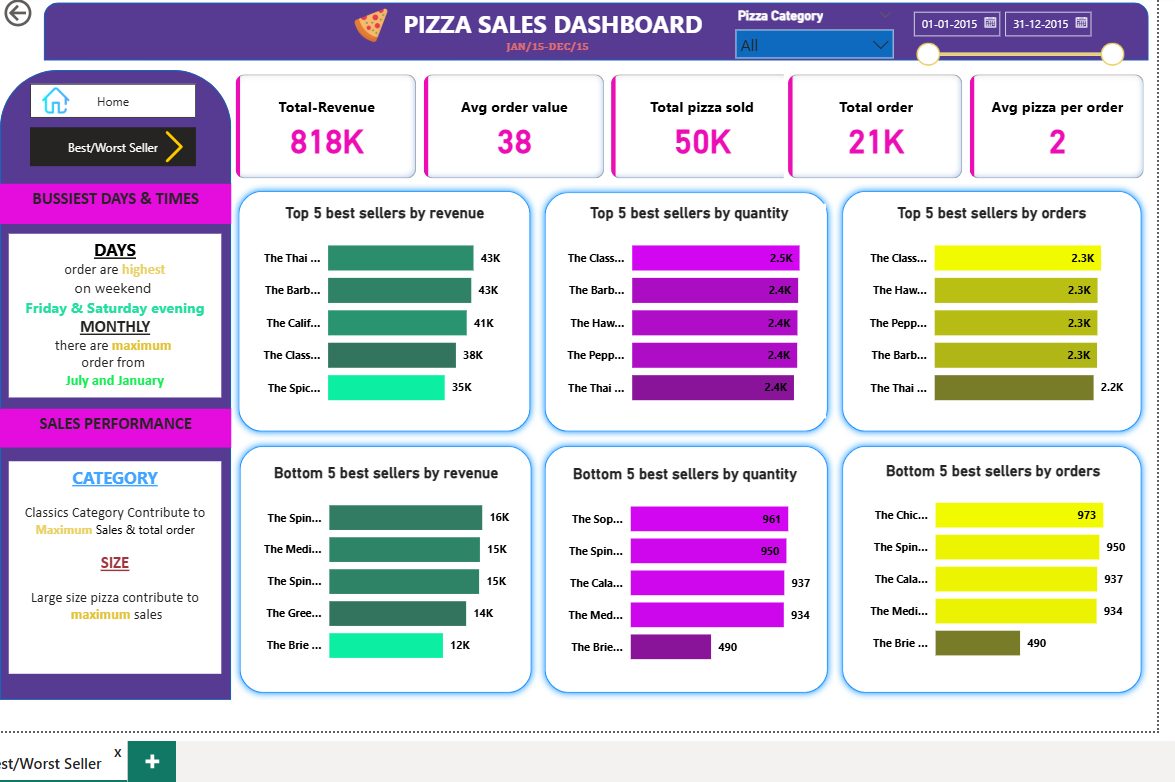

This screenshot's page, from the dashboard's own definition file:
{"tool":"powerbi","page":{"name":"Best/Worst Seller","canvas":[1290,820],"ordinal":1},"visuals":[{"type":"actionButton","box":[0,0,100,40],"z":0},{"type":"cardVisual","fields":{"Data":["pizza_sales.Total-Revenue","pizza_sales.Avg order value","pizza_sales.Total pizza sold"]},"box":[257.6,83.6,629.5,126.7],"z":1000},{"type":"cardVisual","fields":{"Data":["pizza_sales.Total order","pizza_sales.Avg pizza per order"]},"box":[873.2,83.6,406.7,126.7],"z":2000},{"type":"shape","box":[49.4,8.2,1230.9,64.5],"z":3000},{"type":"textbox","box":[407.5,8.2,415.8,48],"z":4000},{"type":"textbox","box":[555.7,41.2,108.4,31.6],"z":5000},{"type":"image","box":[382.8,9.6,60.4,48],"z":6000},{"type":"shape","box":[257.6,210.3,341.2,284.1],"z":7000},{"type":"shape","box":[0,83.6,257.6,701.9],"z":8000},{"type":"textbox","box":[0,210.3,257.6,44.6],"z":9000},{"type":"textbox","box":[9.7,266,236.8,182.4],"z":10000},{"type":"slicer","fields":{"Values":["pizza_sales.pizza_category"]},"box":[809.1,9.7,196.4,62.7],"z":11000},{"type":"slicer","fields":{"Values":["pizza_sales.order_date"]},"box":[1005.5,8.4,254.9,75.2],"z":12000},{"type":"shape","box":[598.8,211.7,331.5,282.7],"z":13000},{"type":"shape","box":[930.3,210.3,349.6,284.1],"z":14000},{"type":"shape","box":[259,494.4,341.2,291.1],"z":15000},{"type":"shape","box":[598.8,494.4,331.5,291.1],"z":16000},{"type":"shape","box":[930.3,494.4,349.6,291.1],"z":17000},{"type":"barChart","title":"Top 5 best sellers by revenue","fields":{"Category":["pizza_sales.pizza_name"],"Y":["pizza_sales.Total-Revenue"]},"box":[275.7,232.6,306.4,239.5],"z":18000},{"type":"barChart","title":"Bottom 5 best sellers by revenue","fields":{"Category":["pizza_sales.pizza_name"],"Y":["pizza_sales.Total-Revenue"]},"box":[277.1,522.3,306.4,236.8],"z":19000},{"type":"barChart","title":"Top 5 best sellers by quantity","fields":{"Category":["pizza_sales.pizza_name"],"Y":["pizza_sales.Total pizza sold"]},"box":[615.6,232.6,305,239.5],"z":20000},{"type":"barChart","title":"Bottom 5 best sellers by quantity","fields":{"Category":["pizza_sales.pizza_name"],"Y":["pizza_sales.Total pizza sold"]},"box":[617,523.6,292.5,236.8],"z":21000},{"type":"barChart","title":"Top 5 best sellers by orders","fields":{"Category":["pizza_sales.pizza_name"],"Y":["pizza_sales.Total order"]},"box":[952.6,232.6,305,239.5],"z":22000},{"type":"barChart","title":"Bottom 5 best sellers by orders","fields":{"Category":["pizza_sales.pizza_name"],"Y":["pizza_sales.Total pizza sold"]},"box":[952.6,519.5,307.8,236.8],"z":23000},{"type":"textbox","box":[0,461,257.6,43.2],"z":24000},{"type":"textbox","box":[9.7,519.5,236.8,236.8],"z":25000},{"type":"pageNavigator","box":[33.4,98.9,185.2,39],"z":25001},{"type":"pageNavigator","box":[33.4,147.6,185.2,43.2],"z":25002},{"type":"image","box":[39,97.5,46,40.4],"z":25003},{"type":"image","box":[171.3,146.2,46,46],"z":25004}]}

Visuals, with their boxes on the page's 1290x820 design canvas (x1, y1, x2, y2). These are canvas units, not pixel positions in the 1175x782 screenshot, which may show the page scaled, cropped or inside an application window:
actionButton: Rect(0, 0, 100, 40)
cardVisual - pizza_sales.Total-Revenue x pizza_sales.Avg order value: Rect(258, 84, 887, 210)
cardVisual - pizza_sales.Total order x pizza_sales.Avg pizza per order: Rect(873, 84, 1280, 210)
shape: Rect(49, 8, 1280, 73)
textbox: Rect(408, 8, 823, 56)
textbox: Rect(556, 41, 664, 73)
image: Rect(383, 10, 443, 58)
shape: Rect(258, 210, 599, 494)
shape: Rect(0, 84, 258, 786)
textbox: Rect(0, 210, 258, 255)
textbox: Rect(10, 266, 246, 448)
slicer - pizza_sales.pizza_category: Rect(809, 10, 1006, 72)
slicer - pizza_sales.order_date: Rect(1006, 8, 1260, 84)
shape: Rect(599, 212, 930, 494)
shape: Rect(930, 210, 1280, 494)
shape: Rect(259, 494, 600, 786)
shape: Rect(599, 494, 930, 786)
shape: Rect(930, 494, 1280, 786)
"Top 5 best sellers by revenue" barChart: Rect(276, 233, 582, 472)
"Bottom 5 best sellers by revenue" barChart: Rect(277, 522, 584, 759)
"Top 5 best sellers by quantity" barChart: Rect(616, 233, 921, 472)
"Bottom 5 best sellers by quantity" barChart: Rect(617, 524, 910, 760)
"Top 5 best sellers by orders" barChart: Rect(953, 233, 1258, 472)
"Bottom 5 best sellers by orders" barChart: Rect(953, 520, 1260, 756)
textbox: Rect(0, 461, 258, 504)
textbox: Rect(10, 520, 246, 756)
pageNavigator: Rect(33, 99, 219, 138)
pageNavigator: Rect(33, 148, 219, 191)
image: Rect(39, 98, 85, 138)
image: Rect(171, 146, 217, 192)
